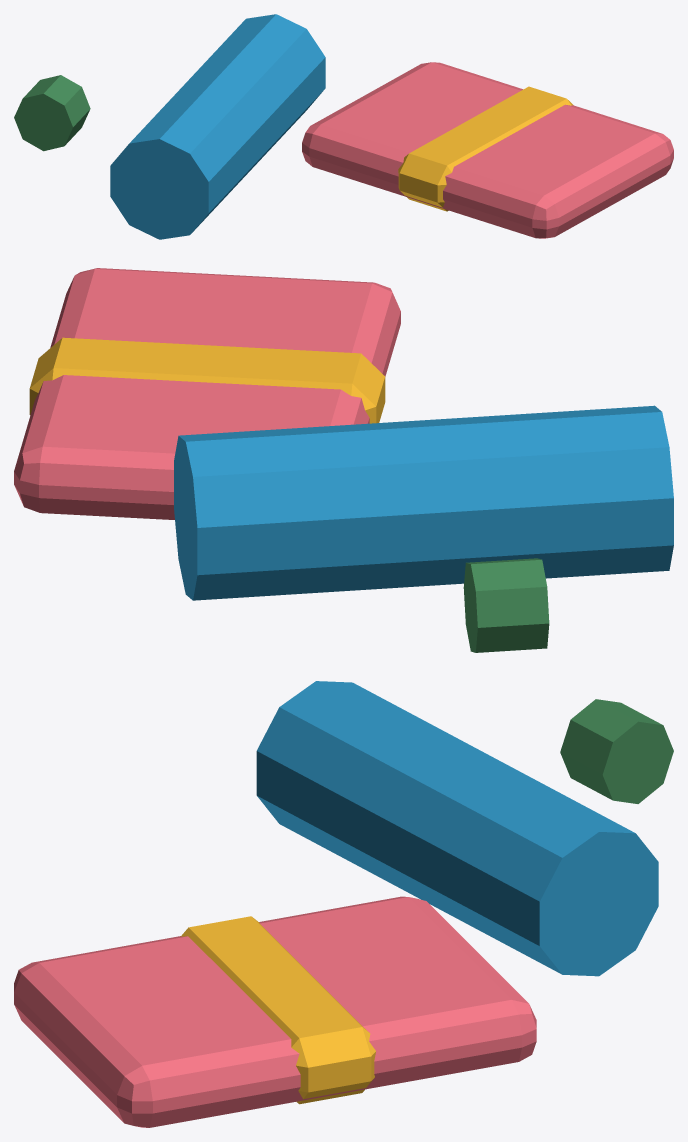
File: decor_litter2.glb
3 views of the same model, one above another, from view 1: azimuth 30°, elevation 25°; view 2: azimuth 150°, elevation 25°; view 3: azimuth 270°, elevation 25° (orthographic). The views are drawn at different scales.
Parts seen in each view (by area): view 1: decor_litter2; view 2: decor_litter2; view 3: decor_litter2.
Boxes of the visible parts, box(x1,y1,x2,y2) form: decor_litter2: box(14, 14, 673, 239); decor_litter2: box(14, 268, 673, 652); decor_litter2: box(14, 681, 673, 1127).
Size of the model in its own units: 0.353 by 0.07 by 0.2898.
